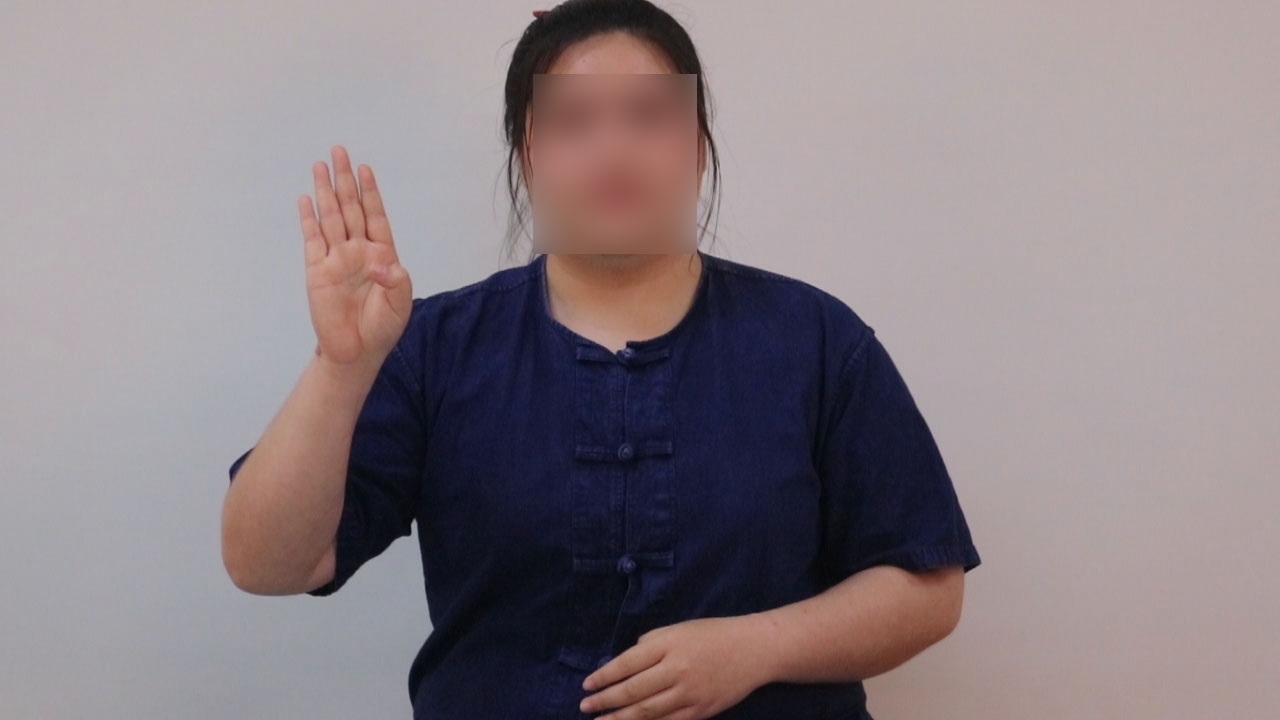bor: (282, 130, 433, 392)
